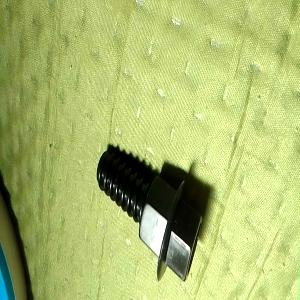parafuso: (96, 149, 205, 282)
